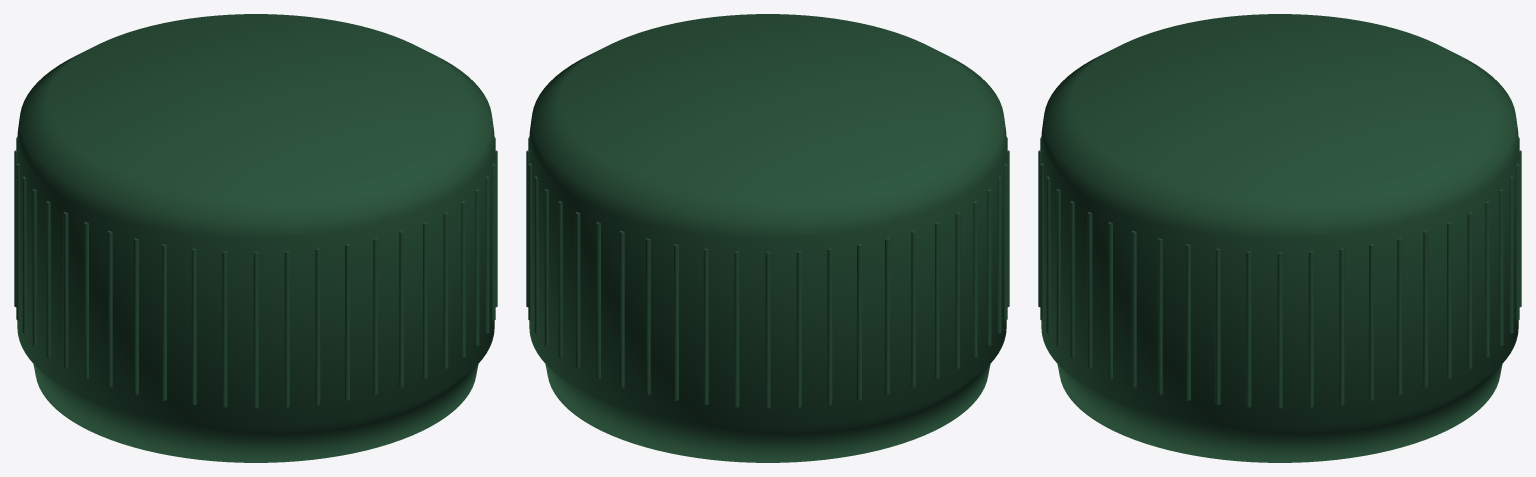
File: cap_spare.glb
3 views of the same model, side by side, from view 1: azimuth 30°, elevation 25°; view 2: azimuth 150°, elevation 25°; view 3: azimuth 270°, elevation 25° (orthographic).
Parts seen in each view (by area): view 1: Cap_Intact, CapGrip_SpareCapRoot_15, CapGrip_SpareCapRoot_16, CapGrip_SpareCapRoot_17, CapGrip_SpareCapRoot_14, CapGrip_SpareCapRoot_9, CapGrip_SpareCapRoot_18, CapGrip_SpareCapRoot_23, CapGrip_SpareCapRoot_13, CapGrip_SpareCapRoot_19, CapGrip_SpareCapRoot_6, CapGrip_SpareCapRoot_26 (+12 smaller); view 2: Cap_Intact, CapGrip_SpareCapRoot_31, CapGrip_SpareCapRoot_32, CapGrip_SpareCapRoot_33, CapGrip_SpareCapRoot_34, CapGrip_SpareCapRoot_25, CapGrip_SpareCapRoot_30, CapGrip_SpareCapRoot_39, CapGrip_SpareCapRoot_29, CapGrip_SpareCapRoot_35, CapGrip_SpareCapRoot_22, CapGrip_SpareCapRoot_42 (+12 smaller); view 3: Cap_Intact, CapGrip_SpareCapRoot_0, CapGrip_SpareCapRoot_1, CapGrip_SpareCapRoot_47, CapGrip_SpareCapRoot_5, CapGrip_SpareCapRoot_43, CapGrip_SpareCapRoot_2, CapGrip_SpareCapRoot_4, CapGrip_SpareCapRoot_7, CapGrip_SpareCapRoot_41, CapGrip_SpareCapRoot_44, CapGrip_SpareCapRoot_46 (+12 smaller).
Part boxes in pixels (x1,y1,x2,y2): Cap_Intact: [17, 14, 494, 462]; CapGrip_SpareCapRoot_15: [284, 251, 289, 407]; CapGrip_SpareCapRoot_16: [253, 252, 258, 408]; CapGrip_SpareCapRoot_17: [222, 251, 227, 407]; CapGrip_SpareCapRoot_14: [315, 248, 320, 404]; CapGrip_SpareCapRoot_9: [443, 212, 448, 368]; CapGrip_SpareCapRoot_18: [191, 248, 196, 404]; CapGrip_SpareCapRoot_23: [63, 212, 68, 368]; CapGrip_SpareCapRoot_13: [345, 244, 349, 400]; CapGrip_SpareCapRoot_19: [162, 244, 166, 400]; CapGrip_SpareCapRoot_6: [485, 176, 489, 333]; CapGrip_SpareCapRoot_26: [22, 176, 26, 333]; Cap_Intact: [529, 14, 1006, 462]; CapGrip_SpareCapRoot_31: [796, 251, 801, 407]; CapGrip_SpareCapRoot_32: [765, 252, 770, 408]; CapGrip_SpareCapRoot_33: [734, 251, 739, 407]; CapGrip_SpareCapRoot_34: [703, 248, 708, 404]; CapGrip_SpareCapRoot_25: [955, 212, 960, 368]; CapGrip_SpareCapRoot_30: [827, 248, 832, 404]; CapGrip_SpareCapRoot_39: [575, 212, 580, 368]; CapGrip_SpareCapRoot_29: [857, 244, 861, 400]; CapGrip_SpareCapRoot_35: [674, 244, 678, 400]; CapGrip_SpareCapRoot_22: [997, 176, 1001, 333]; CapGrip_SpareCapRoot_42: [534, 176, 538, 333]; Cap_Intact: [1041, 14, 1518, 462]; CapGrip_SpareCapRoot_0: [1277, 252, 1282, 408]; CapGrip_SpareCapRoot_1: [1246, 251, 1251, 407]; CapGrip_SpareCapRoot_47: [1308, 251, 1313, 407]; CapGrip_SpareCapRoot_5: [1131, 230, 1136, 387]; CapGrip_SpareCapRoot_43: [1423, 230, 1428, 387]; CapGrip_SpareCapRoot_2: [1215, 248, 1220, 404]; CapGrip_SpareCapRoot_4: [1157, 238, 1162, 394]; CapGrip_SpareCapRoot_7: [1087, 212, 1092, 368]; CapGrip_SpareCapRoot_41: [1467, 212, 1472, 368]; CapGrip_SpareCapRoot_44: [1397, 238, 1402, 394]; CapGrip_SpareCapRoot_46: [1339, 248, 1344, 404].
Bounding box in the file's own units: 0.0311 × 0.019 × 0.0311.
